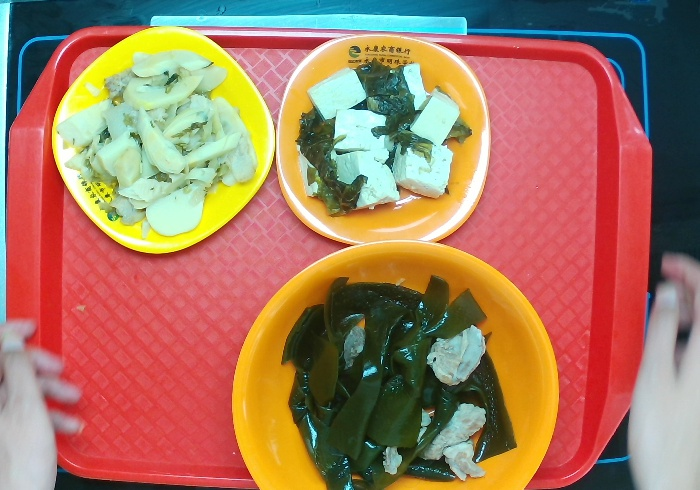YKMZ-Huang_Se_Fang_Die: (48, 22, 277, 257)
YKMZ-Ju_Se_Fang_Die: (274, 29, 491, 247)
YKMZ-Ju_Se_Tang_Wan: (231, 235, 561, 490)
